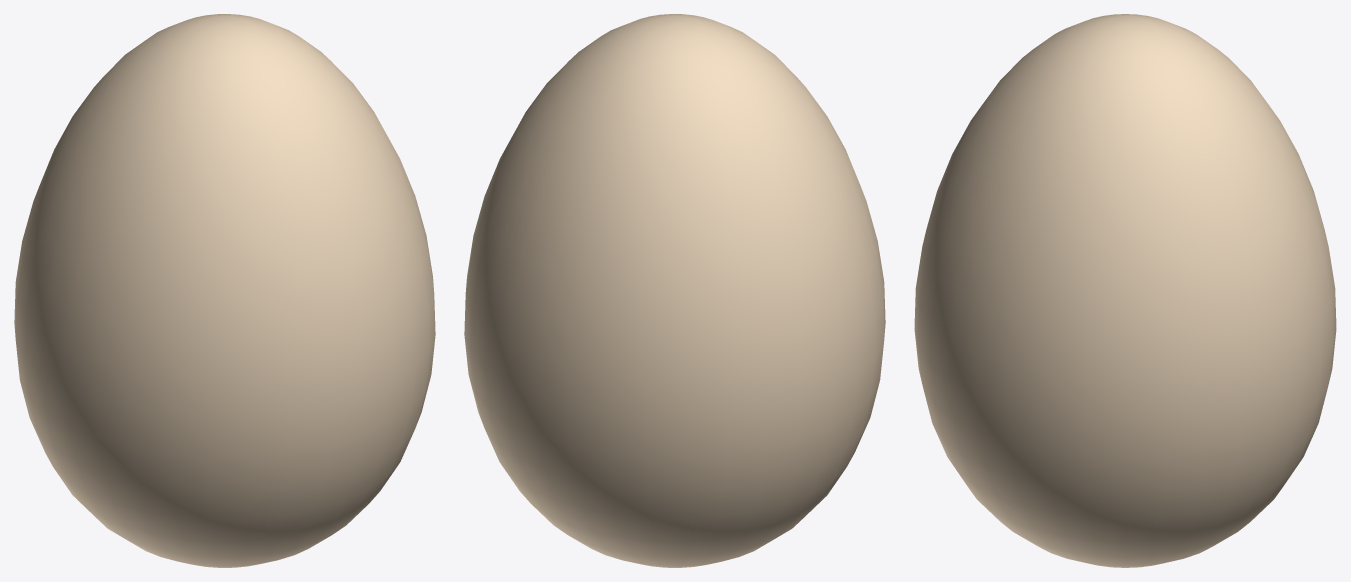
Rendered from Egg.fbx.
The picture shows the model from 3 angles, left to right: view 1: azimuth 30°, elevation 25°; view 2: azimuth 150°, elevation 25°; view 3: azimuth 270°, elevation 25°; orthographic projection.
Visible parts, largest first — view 1: Egg; view 2: Egg; view 3: Egg.
Part boxes in pixels (bbox=[...]): Egg: bbox=[14, 14, 435, 567]; Egg: bbox=[464, 14, 885, 567]; Egg: bbox=[914, 14, 1336, 567].
Bounding box in the file's own units: 0.0423 × 0.058 × 0.0423.
